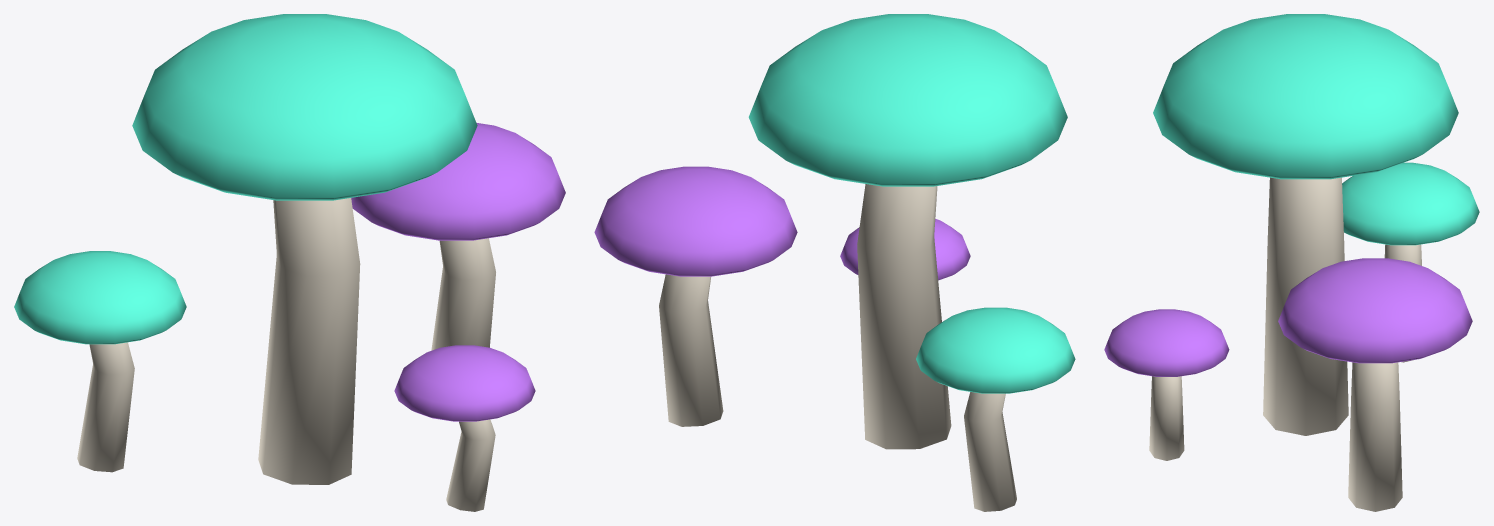
The model's file is P_GlowShroom.fbx.
The picture shows the model from 3 angles, left to right: view 1: azimuth 30°, elevation 25°; view 2: azimuth 150°, elevation 25°; view 3: azimuth 270°, elevation 25°; orthographic projection. The views are drawn at different scales.
Visible parts, largest first — view 1: P_GlowShroom__Glow, P_GlowShroom__Stem, P_GlowShroom__GlowB; view 2: P_GlowShroom__Glow, P_GlowShroom__Stem, P_GlowShroom__GlowB; view 3: P_GlowShroom__Glow, P_GlowShroom__Stem, P_GlowShroom__GlowB.
Part boxes in pixels (box(x1,y1,x2,y2)): P_GlowShroom__Glow: box(14, 14, 477, 344); P_GlowShroom__Stem: box(77, 198, 495, 511); P_GlowShroom__GlowB: box(351, 123, 565, 421); P_GlowShroom__Glow: box(748, 14, 1075, 393); P_GlowShroom__Stem: box(659, 184, 1016, 511); P_GlowShroom__GlowB: box(594, 166, 970, 280); P_GlowShroom__Glow: box(1153, 14, 1479, 245); P_GlowShroom__Stem: box(1149, 177, 1421, 511); P_GlowShroom__GlowB: box(1104, 258, 1472, 376).
Size of the model in its own units: 3.73 by 3.03 by 2.7.
